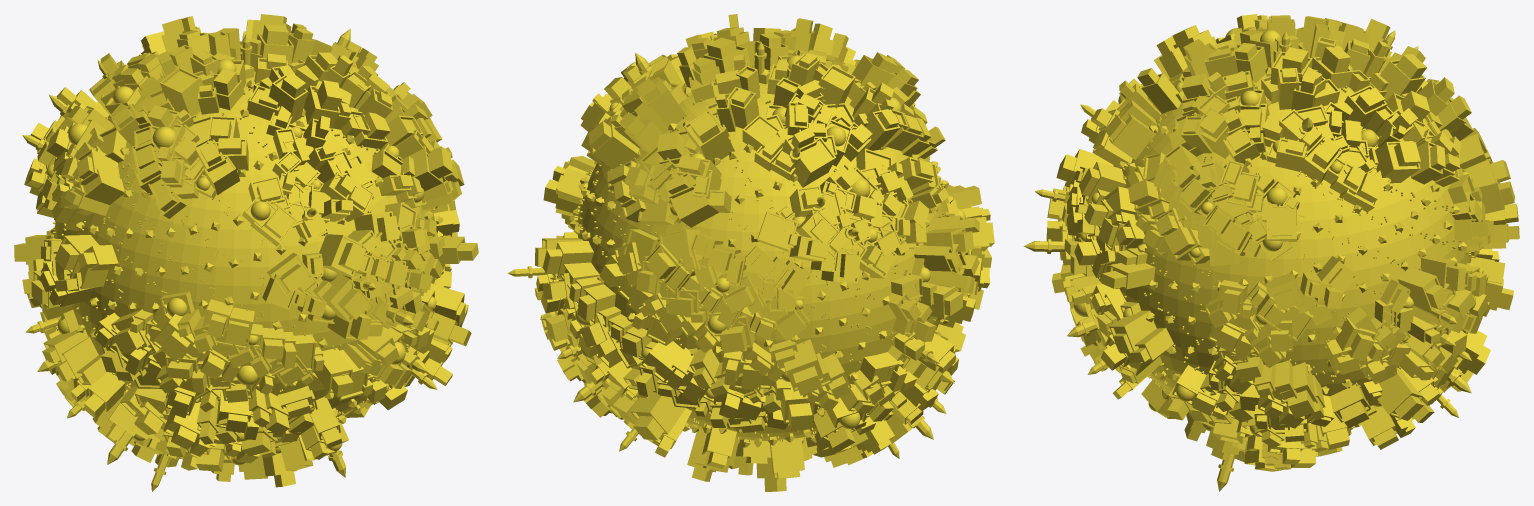
Rendered from earth.glb.
The picture shows the model from 3 angles, left to right: view 1: azimuth 30°, elevation 25°; view 2: azimuth 150°, elevation 25°; view 3: azimuth 270°, elevation 25°; orthographic projection.
Visible parts, largest first — view 1: Planet_Street_Scene (2); view 2: Planet_Street_Scene (2); view 3: Planet_Street_Scene (2).
Part boxes in pixels (box(x1,y1,x2,y2)): Planet_Street_Scene (2): box(14, 14, 478, 491); Planet_Street_Scene (2): box(507, 14, 994, 491); Planet_Street_Scene (2): box(1023, 14, 1519, 491).
Bounding box in the file's own units: 292 × 300 × 315.
